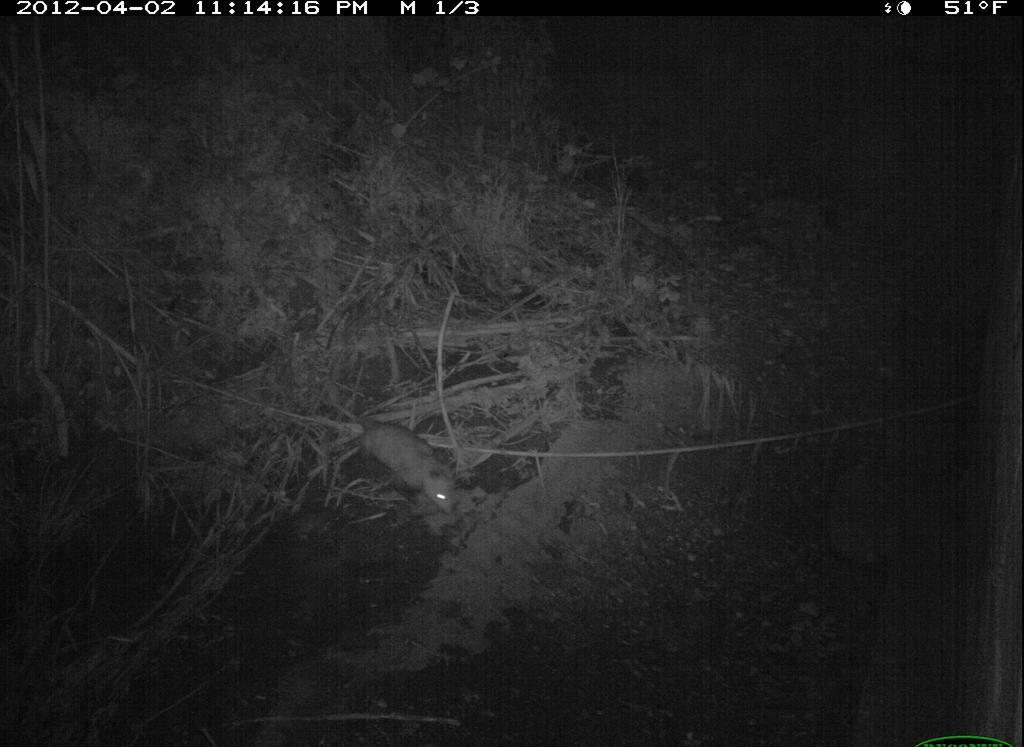opossum: (309, 383, 465, 520)
